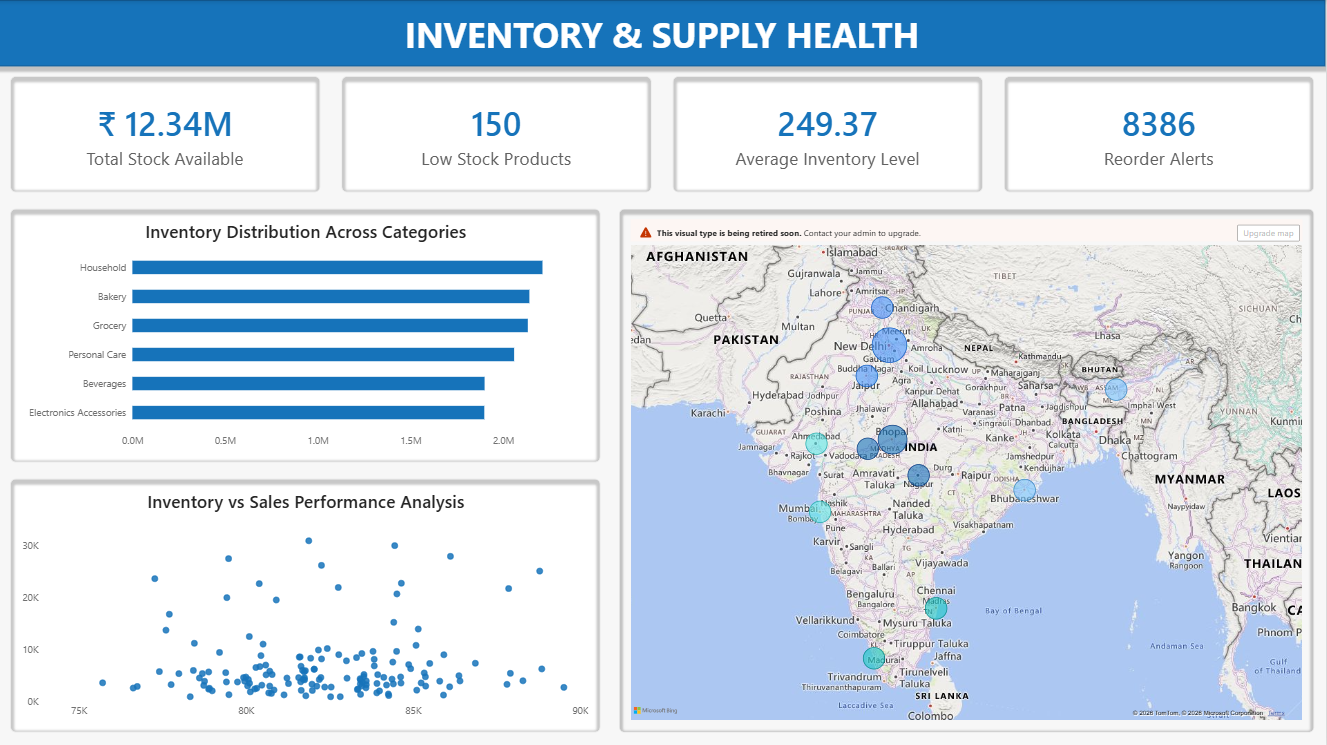

What the dashboard file says about the page in this screenshot:
{"tool":"powerbi","page":{"name":"INVENTORY & SUPPLY HEALTH","canvas":[1920,1080],"ordinal":5},"visuals":[{"type":"shape","box":[0,0,1920.1,95.9],"z":0},{"type":"card","fields":{"Values":["Measure.Total Stock Available"]},"box":[16.3,110.4,448.8,168.3],"z":0},{"type":"card","fields":{"Values":["Measure.Low Stock Products"]},"box":[495.8,110.4,448.8,168.3],"z":1000},{"type":"card","fields":{"Values":["Measure.Avg Inventory Level"]},"box":[975.4,110.4,448.8,168.3],"z":2000},{"type":"barChart","title":"Inventory Distribution Across Categories","fields":{"Category":["Dim_Products.Category"],"Y":["Measure.Total Stock Available"]},"box":[16.3,302.2,854.2,367.4],"z":2000},{"type":"card","fields":{"Values":["Measure.Reorder Alerts"]},"box":[1455,110.4,448.8,168.3],"z":3000},{"type":"scatterChart","title":"Inventory vs Sales Performance Analysis","fields":{"Category":["Dim_Products.ProductName"],"X":["Measure.Total Stock Available"],"Y":["Measure.Total Sales"]},"box":[16.3,693.1,854.2,367.4],"z":3000},{"type":"map","fields":{"Category":["Dim_Stores.City"],"Series":["Dim_Stores.Region"],"Size":["Measure.Total Stock Available"]},"box":[897.6,302.2,1006.2,758.2],"z":4000}]}

Visuals, with their boxes in screenshot pixels (x1, y1, x2, y2), scaled from the page's 1920x1080 canvas onto the 1327x745 screenshot:
shape: [x1=0, y1=0, x2=1326, y2=66]
card - Measure.Total Stock Available: [x1=11, y1=76, x2=321, y2=192]
card - Measure.Low Stock Products: [x1=343, y1=76, x2=653, y2=192]
card - Measure.Avg Inventory Level: [x1=674, y1=76, x2=984, y2=192]
"Inventory Distribution Across Categories" barChart: [x1=11, y1=208, x2=602, y2=462]
card - Measure.Reorder Alerts: [x1=1006, y1=76, x2=1316, y2=192]
"Inventory vs Sales Performance Analysis" scatterChart: [x1=11, y1=478, x2=602, y2=732]
map - Dim_Stores.City x Dim_Stores.Region: [x1=620, y1=208, x2=1316, y2=731]
